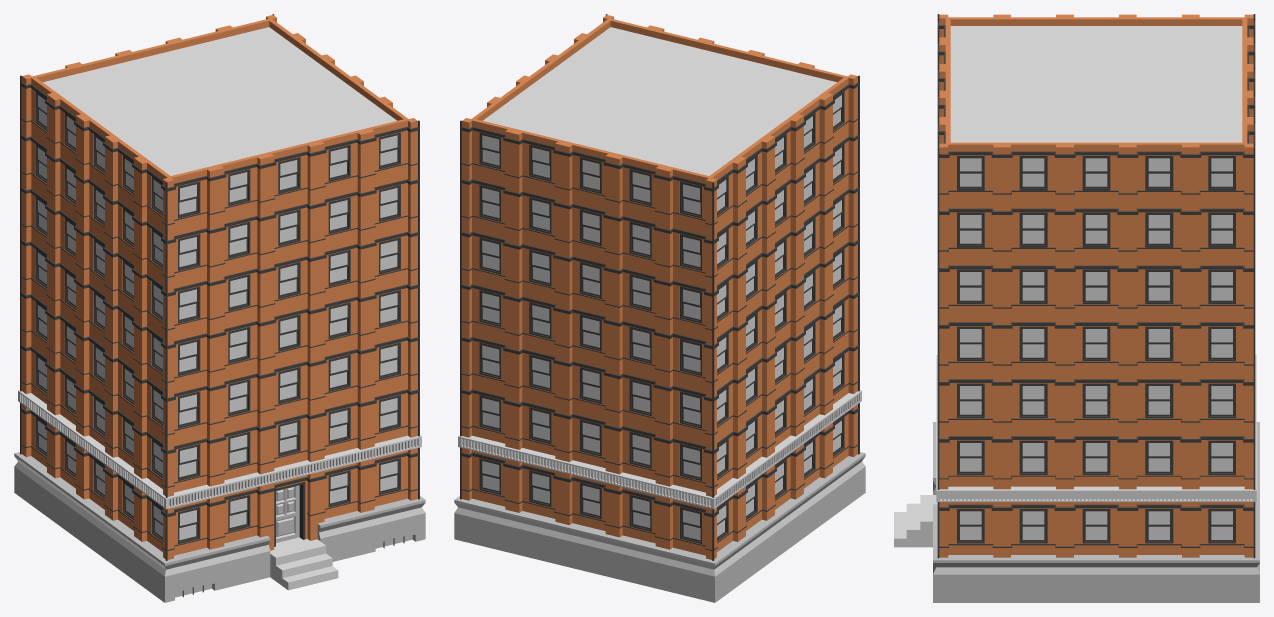
The model's file is building 3.fbx.
3 views of the same model, side by side, from view 1: azimuth 30°, elevation 25°; view 2: azimuth 150°, elevation 25°; view 3: azimuth 270°, elevation 25° (orthographic). The views are drawn at different scales.
Visible parts, largest first — view 1: building 3; view 2: building 3; view 3: building 3.
Part boxes in pixels (left/top/right/bottom): building 3: left=14, top=14, right=425, bottom=602; building 3: left=454, top=14, right=865, bottom=602; building 3: left=894, top=14, right=1259, bottom=602.
Bounding box in the file's own units: 1040 × 1590 × 1164.
